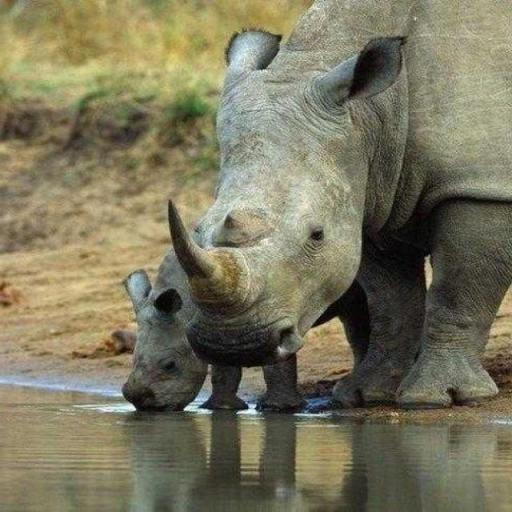Rhino: (166, 0, 511, 411)
